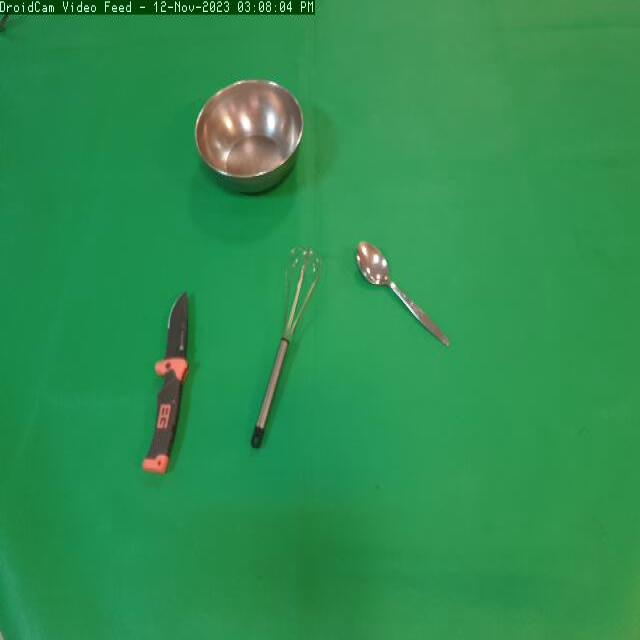bowl: (191, 73, 305, 199)
knife: (140, 278, 212, 494)
spoon: (350, 232, 453, 350)
whisk: (240, 241, 332, 460)
